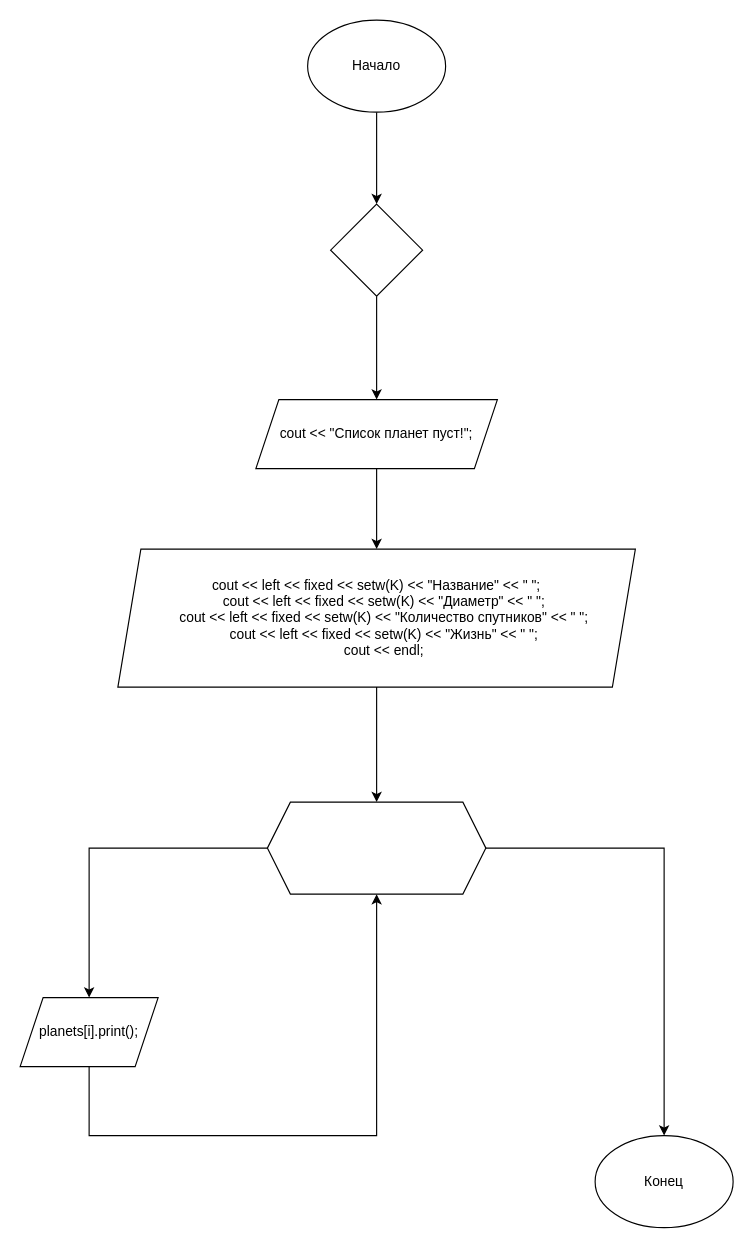
This 753x1248 diagram has some shape labels left out. The centre of each missing label's shape, as x and y in pixels:
"counter == 0" goes at point 376,249.
"int i = 0; i < counter; i++" goes at point 376,847.
